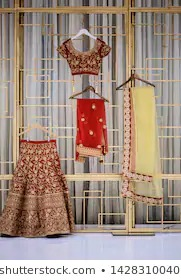C_short blouse: (59, 37, 111, 74)
